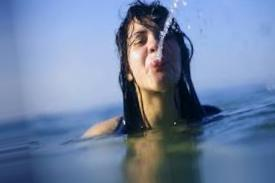spitting: (57, 0, 240, 150)
